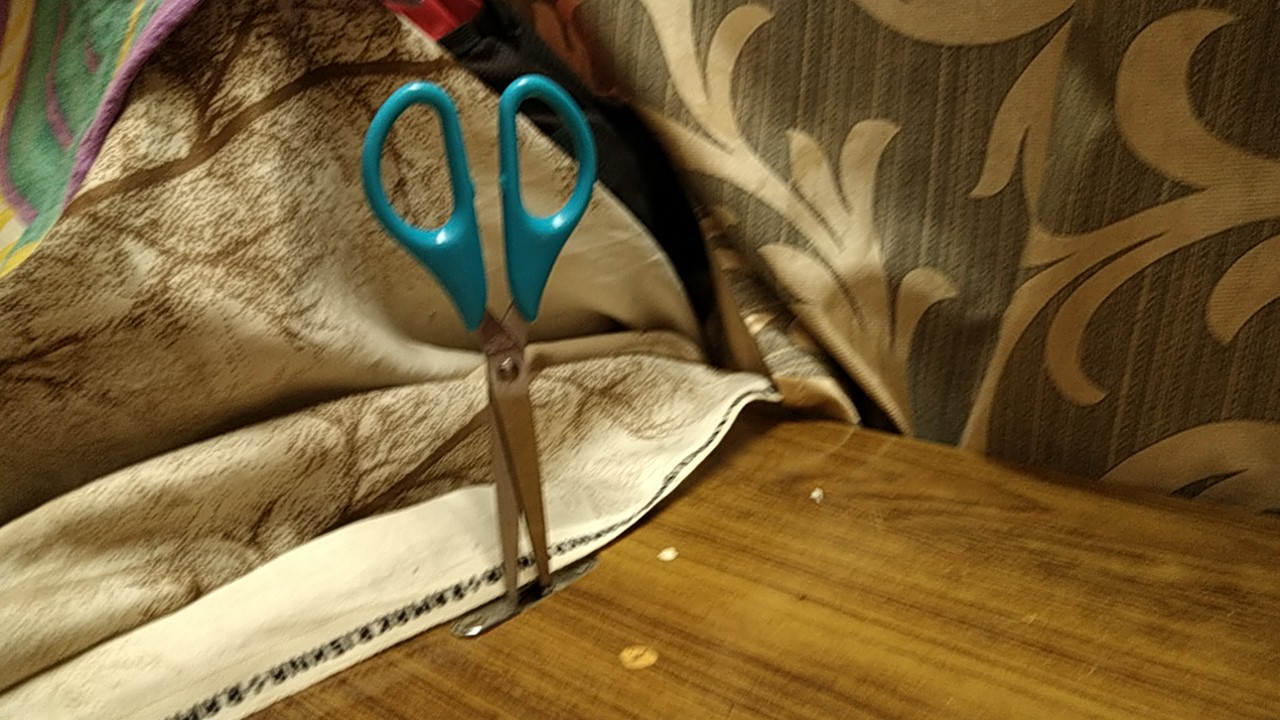scissor: (353, 61, 614, 619)
